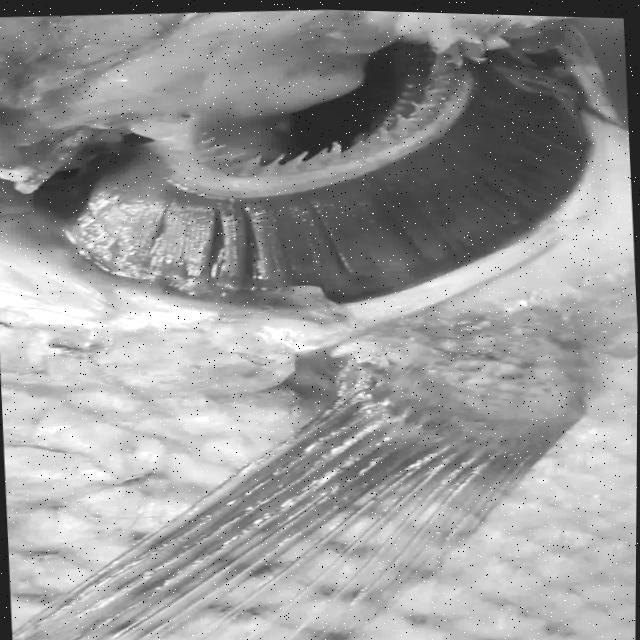Non-Fresh: (76, 77, 584, 348)
